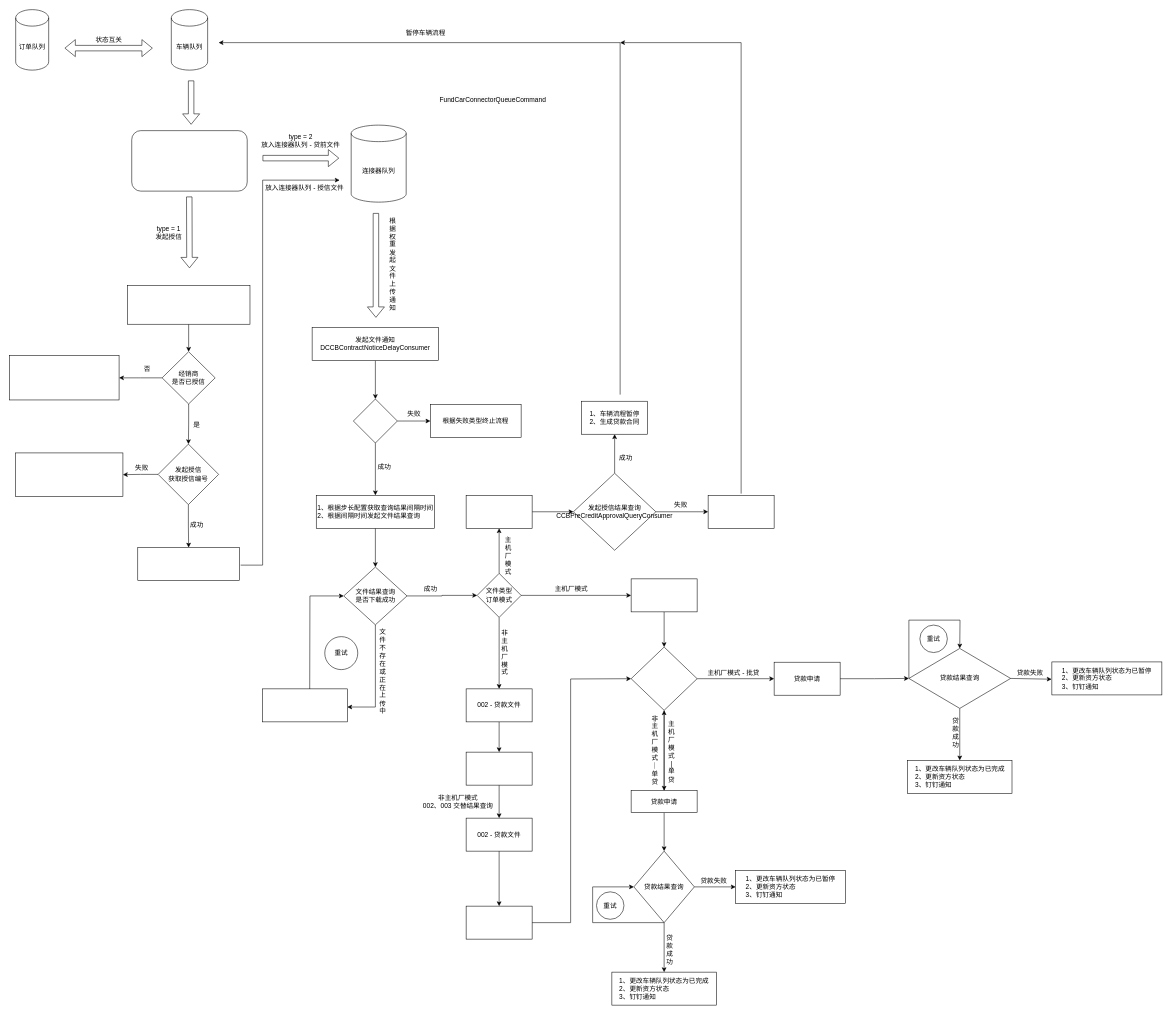
Image size: 1172x1015. Some labels were removed from this diagram. Here are the shapes that lost their labels. From the top down, the centre of each, then its label:
point (189, 160): FundCarQueueCommand
point (188, 304): 发起授信申请 CCBPreCreditApprovalDelayConsumer
point (64, 377): 1、生成授信合同，通知经销商签署 2、经销商资方状态更新为禁止准入 3、车辆流程暂停 4、同订单下其他车辆直接暂停流程
point (375, 420): 文件通知
point (69, 474): 根据错误信息级别终止对应流程 1、车辆流程暂停 2、订单流程终止 3、经销商禁止准入
point (499, 511): 001 授信文件
point (741, 511): 1、根据失败原因、报错信息终止对应流程
point (188, 564): 1、更新资方车辆状态 2、放入连接器队列 - 001类型
point (664, 595): 002 贷款文件
point (664, 678): 发起贷款申请
point (304, 705): 1、发起重试 2、达到最大重试次数后根据返回信息终止流程
point (499, 768): 003 - 贷款文件
point (499, 922): 002下载成功 003下载成功
